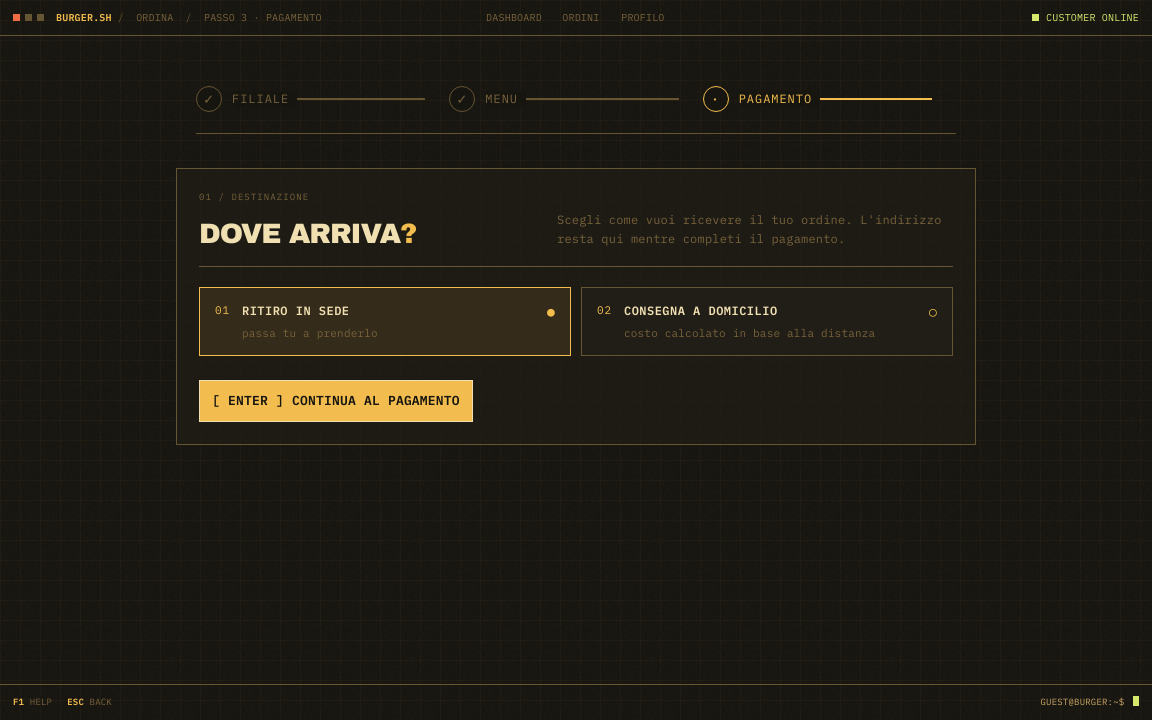
OrderPaymentPage › una consegna a domicilio richiede via, città e CAP
Expected: the heading "DOVE ARRIVA?" is shown, x1=199 y1=218 x2=416 y2=249
Click the radio button labelled "CONSEGNA A DOMICILIO" at (701, 311), box x1=581 y1=287 x2=953 y2=356
(page scrolled)
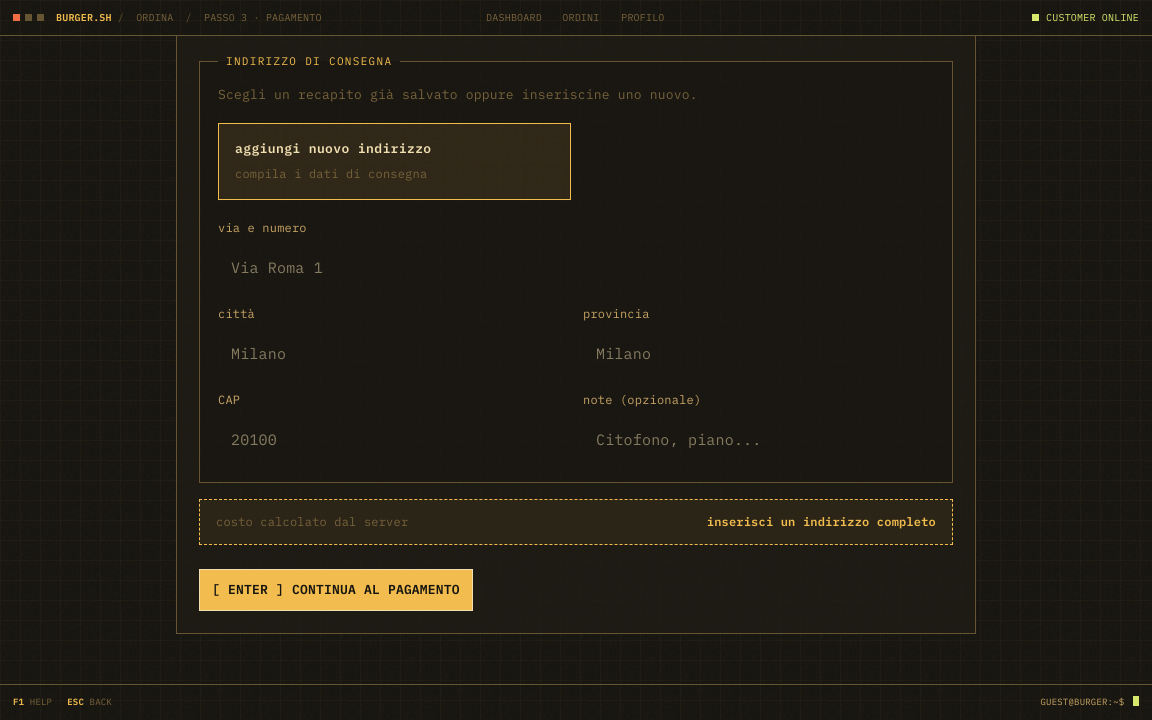
Click the button "[ enter ] continua al pagamento" at (336, 590), box x1=199 y1=569 x2=473 y2=611
(page scrolled)
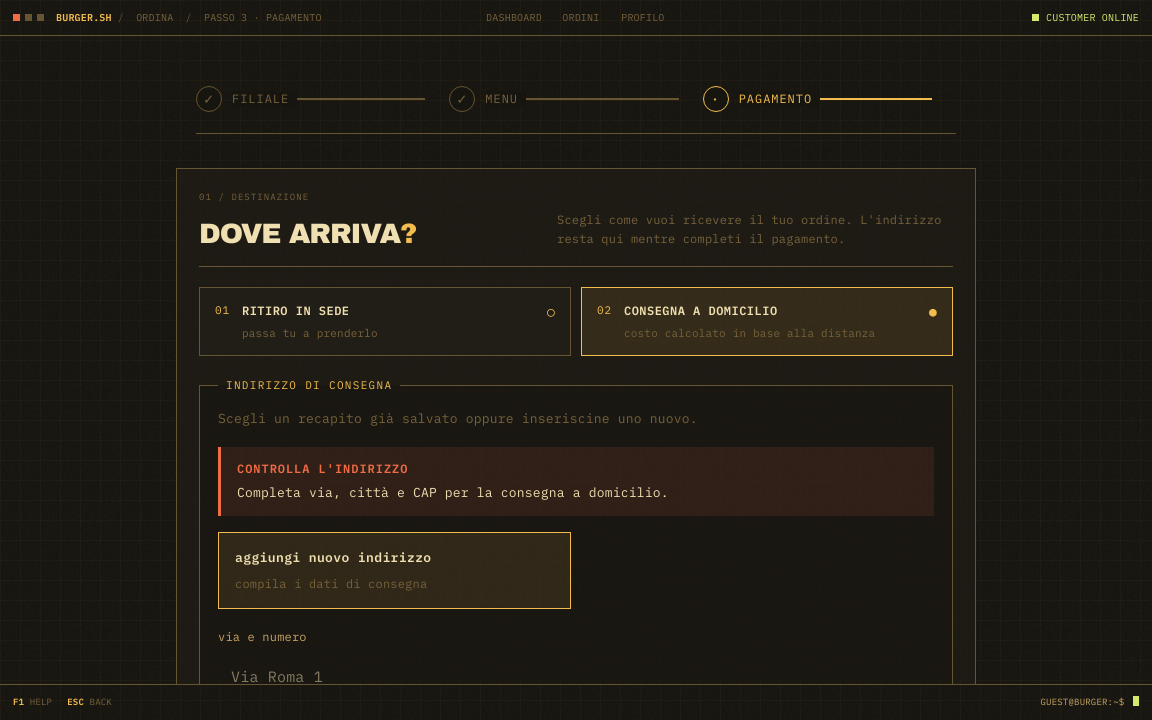
Expected: the message shows "Completa via, città e CAP", x1=237 y1=484 x2=669 y2=501
Expected: the heading "DOVE ARRIVA?" is shown, x1=199 y1=218 x2=416 y2=249
